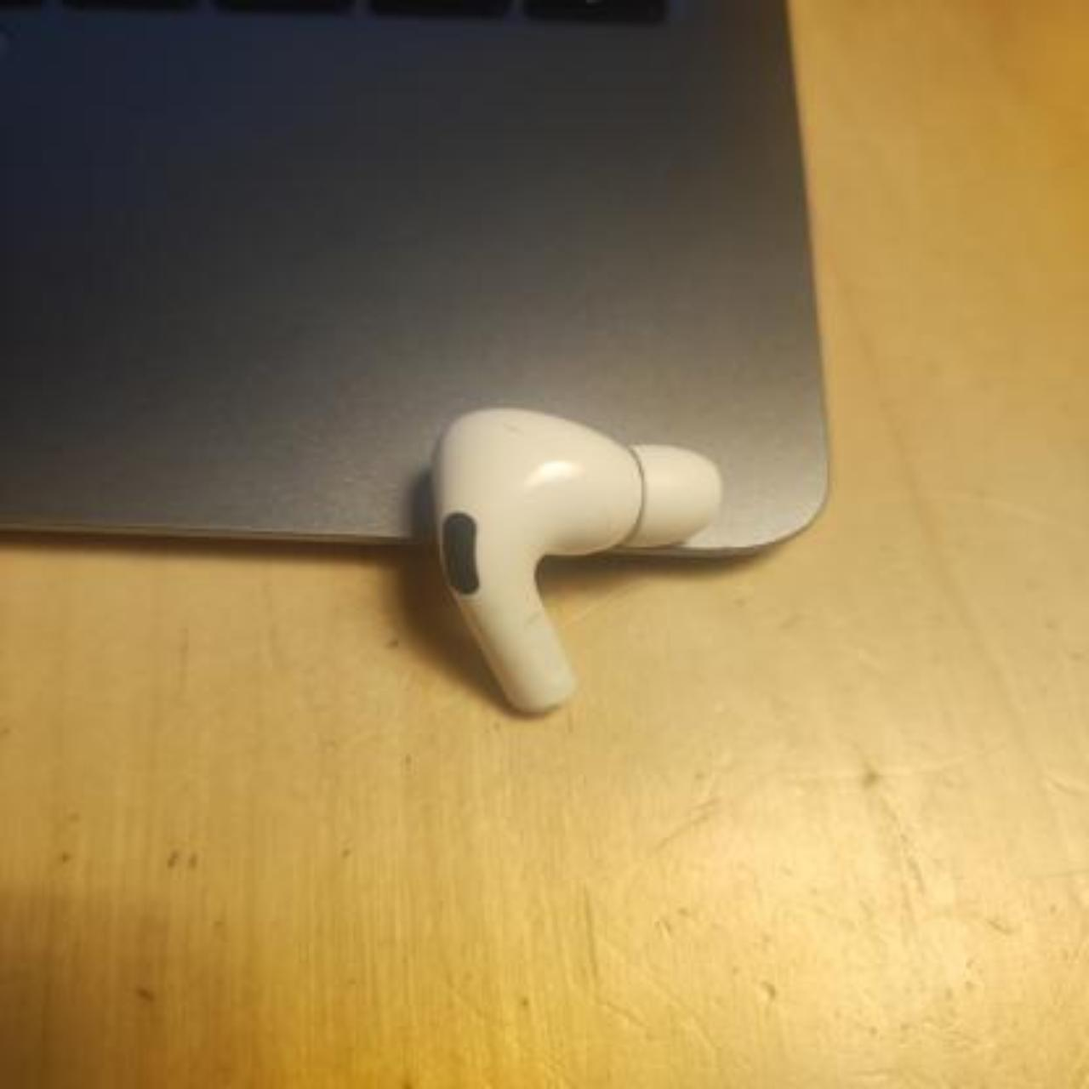Airpods_Units: (430, 409, 718, 723)
